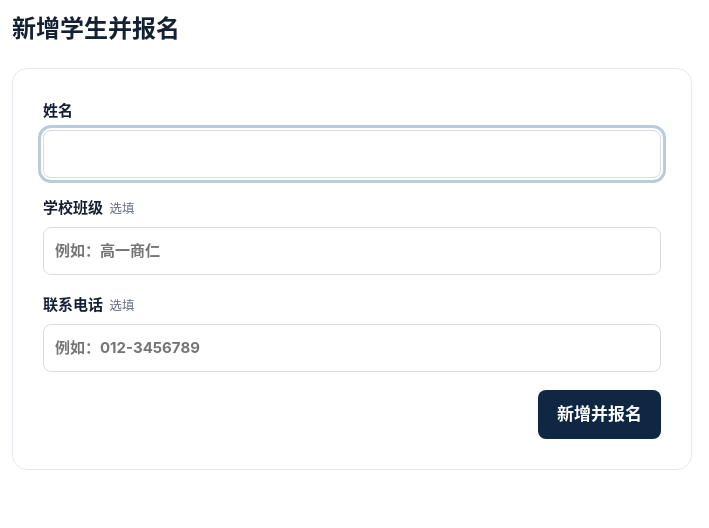
Test: retained student registration keeps failed input protected
Type "隔离失败学生" into the field labelled "姓名" at (352, 154), box [43,130,661,178]
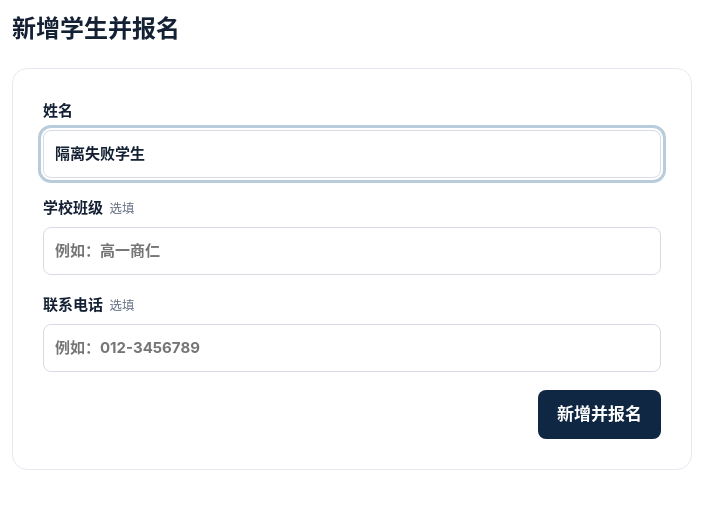
Submit the form labelled "姓名"
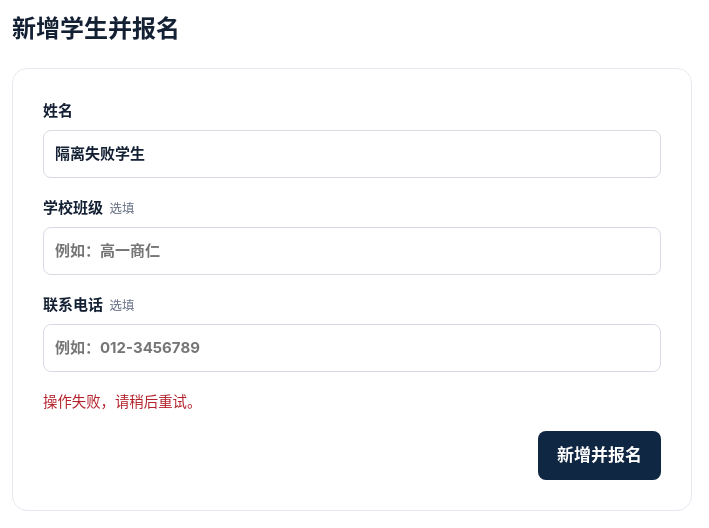
Expected: the message shows "操作失败", [43,393,201,410]
